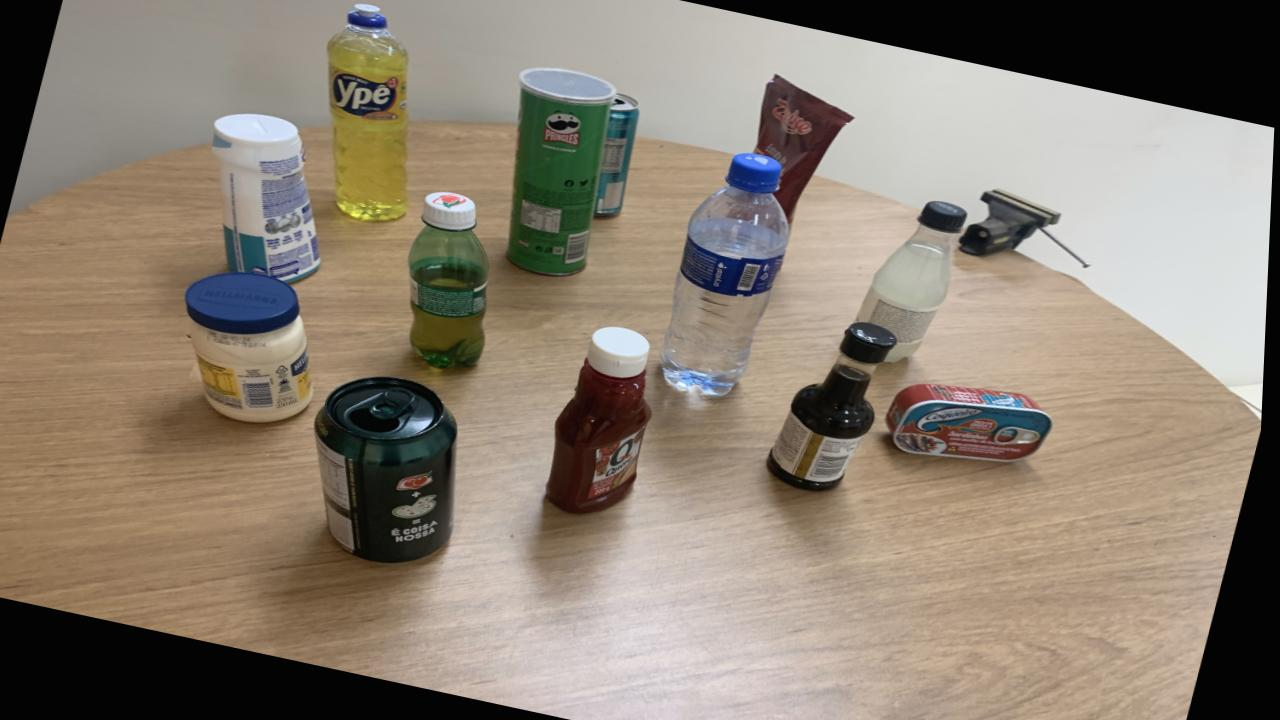Cleaner-Cleanup_Items: (212, 114, 323, 283)
Detergent-Cleanup_Items: (326, 3, 410, 221)
English_Sauce-Pantry_Items: (770, 322, 900, 491)
Guarana-Drinks: (410, 191, 492, 368)
Guarana_Can-Drinks: (317, 376, 461, 563)
Ketchup-Pantry_Items: (550, 327, 655, 514)
Mayonnaise-Pantry_Items: (187, 272, 316, 423)
Pringles-Snacks: (508, 67, 617, 276)
Soda-Drinks: (860, 201, 968, 362)
Tea-Drinks: (595, 94, 641, 217)
Tomato_Sauce-Pantry_Items: (756, 75, 854, 221)
Tuna_Can-Pantry_Items: (888, 383, 1056, 462)
Water_Bottle-Drinks: (663, 153, 792, 397)
